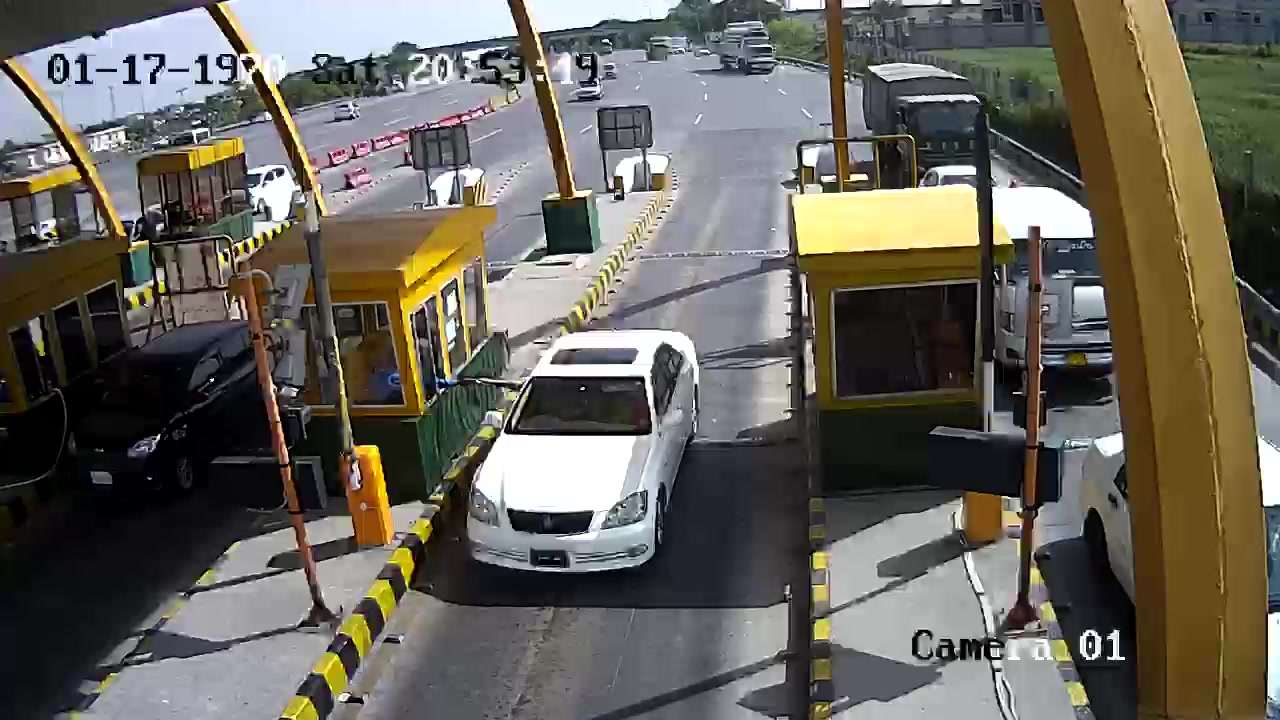F1: (462, 302, 712, 574)
